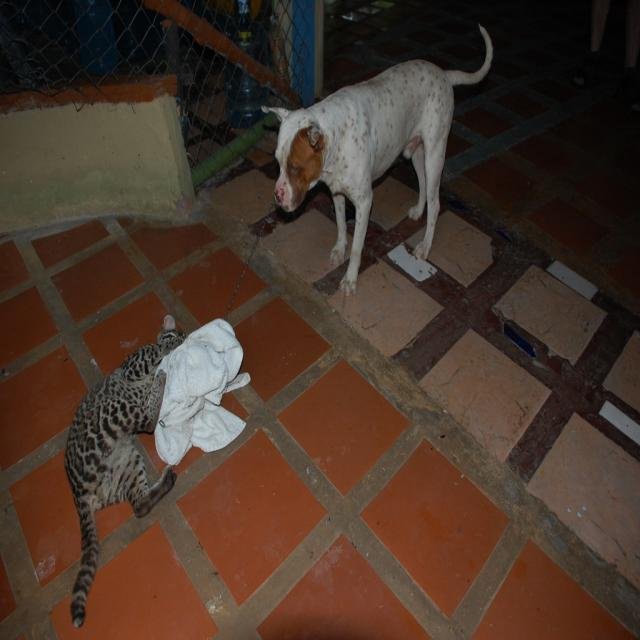Cat: (62, 312, 192, 628)
